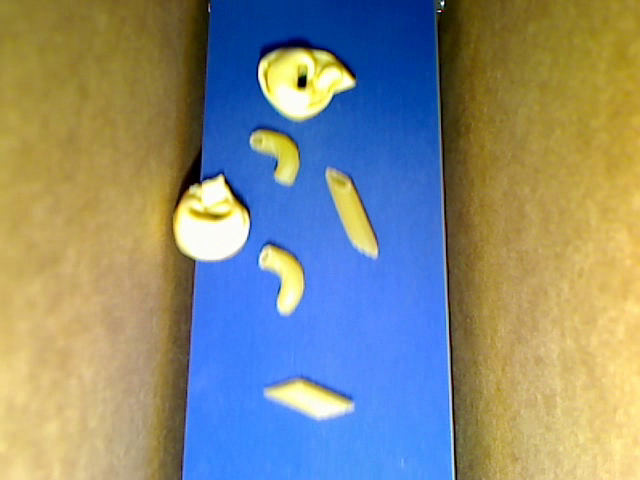elbow: (257, 242, 305, 317), (248, 128, 301, 186)
penne: (324, 166, 379, 259), (263, 377, 354, 421)
tortellini: (258, 48, 356, 123), (172, 173, 250, 262)
